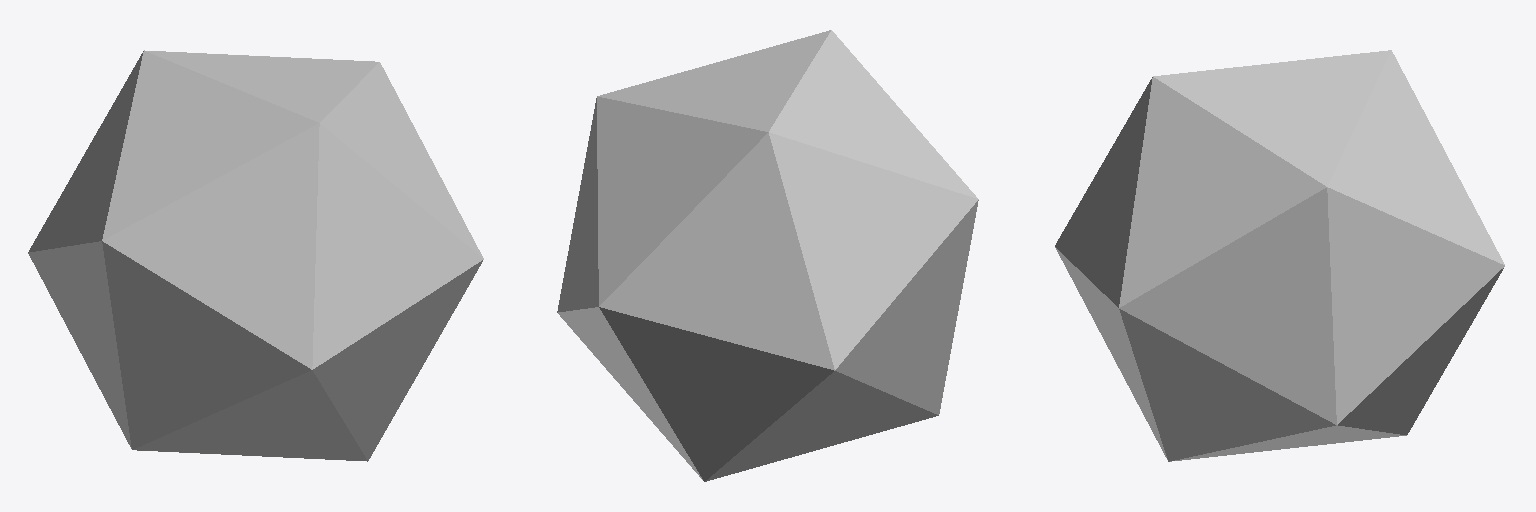
File: Mouse Ball.obj
The picture shows the model from 3 angles: view 1: azimuth 30°, elevation 25°; view 2: azimuth 150°, elevation 25°; view 3: azimuth 270°, elevation 25°; orthographic projection.
Parts seen in each view (by area): view 1: Mouse_Ball; view 2: Mouse_Ball; view 3: Mouse_Ball.
Part boxes in pixels (left/top/right/bottom): Mouse_Ball: left=28, top=50, right=483, bottom=461; Mouse_Ball: left=557, top=30, right=978, bottom=481; Mouse_Ball: left=1055, top=50, right=1504, bottom=461.
Bounding box in the file's own units: 0.0281 × 0.0264 × 0.03.